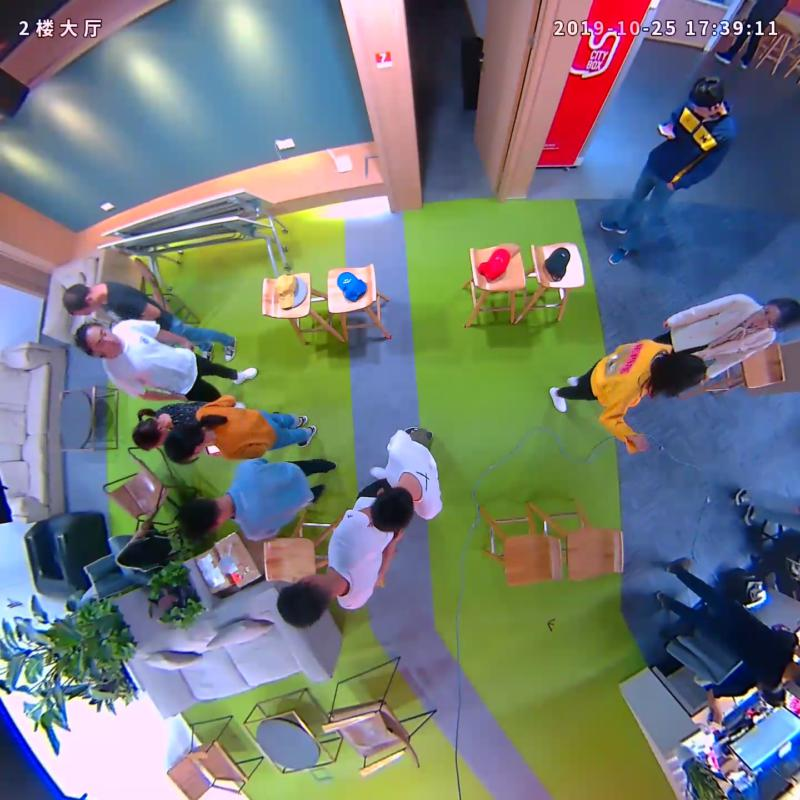head: (277, 574, 332, 631), (658, 351, 707, 395), (163, 420, 212, 464), (371, 486, 415, 533), (177, 497, 225, 536), (73, 321, 124, 357), (687, 75, 724, 119), (753, 298, 800, 331), (130, 415, 169, 451), (61, 283, 97, 317)
